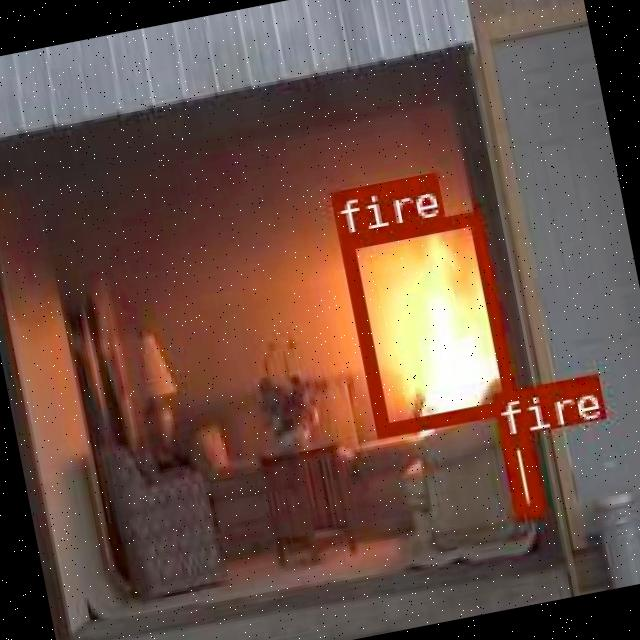fire: (336, 209, 516, 438), (498, 432, 543, 518)
